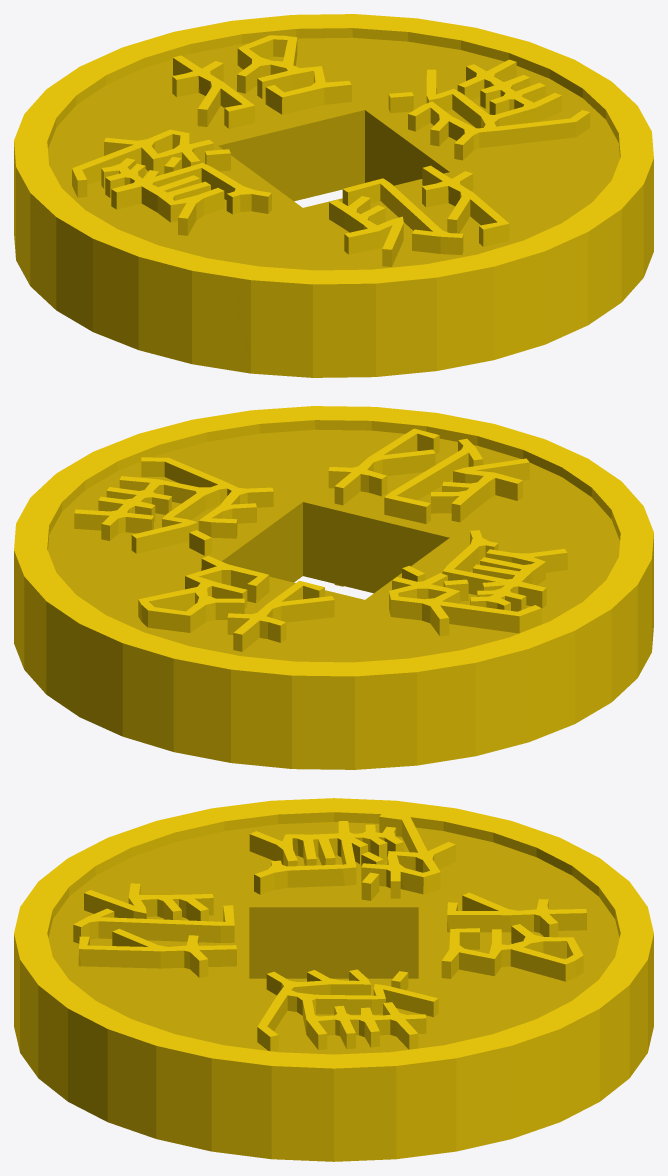
File: Raven_Coin.fbx
3 views of the same model, one above another, from view 1: azimuth 30°, elevation 25°; view 2: azimuth 150°, elevation 25°; view 3: azimuth 270°, elevation 25° (orthographic).
Parts seen in each view (by area): view 1: Cylinder, Cube.010; view 2: Cylinder, Cube.010; view 3: Cylinder, Cube.010.
Boxes of the visible parts, x1,y1,x2,y2 form: Cylinder: [14, 14, 653, 377]; Cube.010: [72, 35, 590, 266]; Cylinder: [14, 406, 653, 769]; Cube.010: [74, 428, 567, 651]; Cylinder: [14, 798, 653, 1161]; Cube.010: [73, 813, 586, 1051].
Size of the model in its own units: 34.17 by 5.94 by 34.17.
